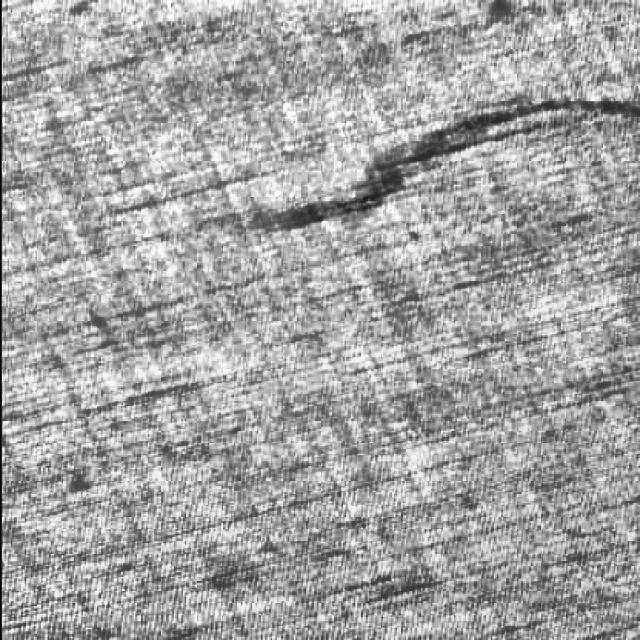oil_spot: (235, 82, 640, 255)
